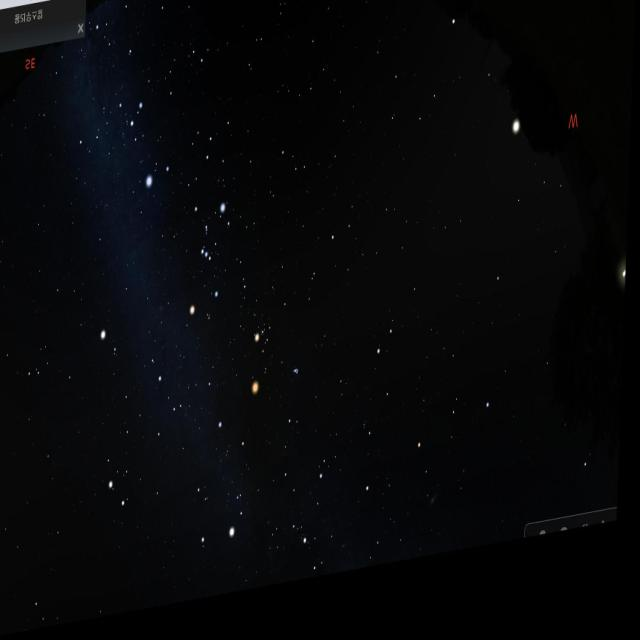canis_major: (118, 96, 177, 200)
canis_minor: (100, 324, 130, 368)
gemini: (108, 365, 196, 527)
orion: (184, 201, 234, 319)
pleiades: (294, 372, 304, 394)
taurus: (245, 288, 315, 403)
